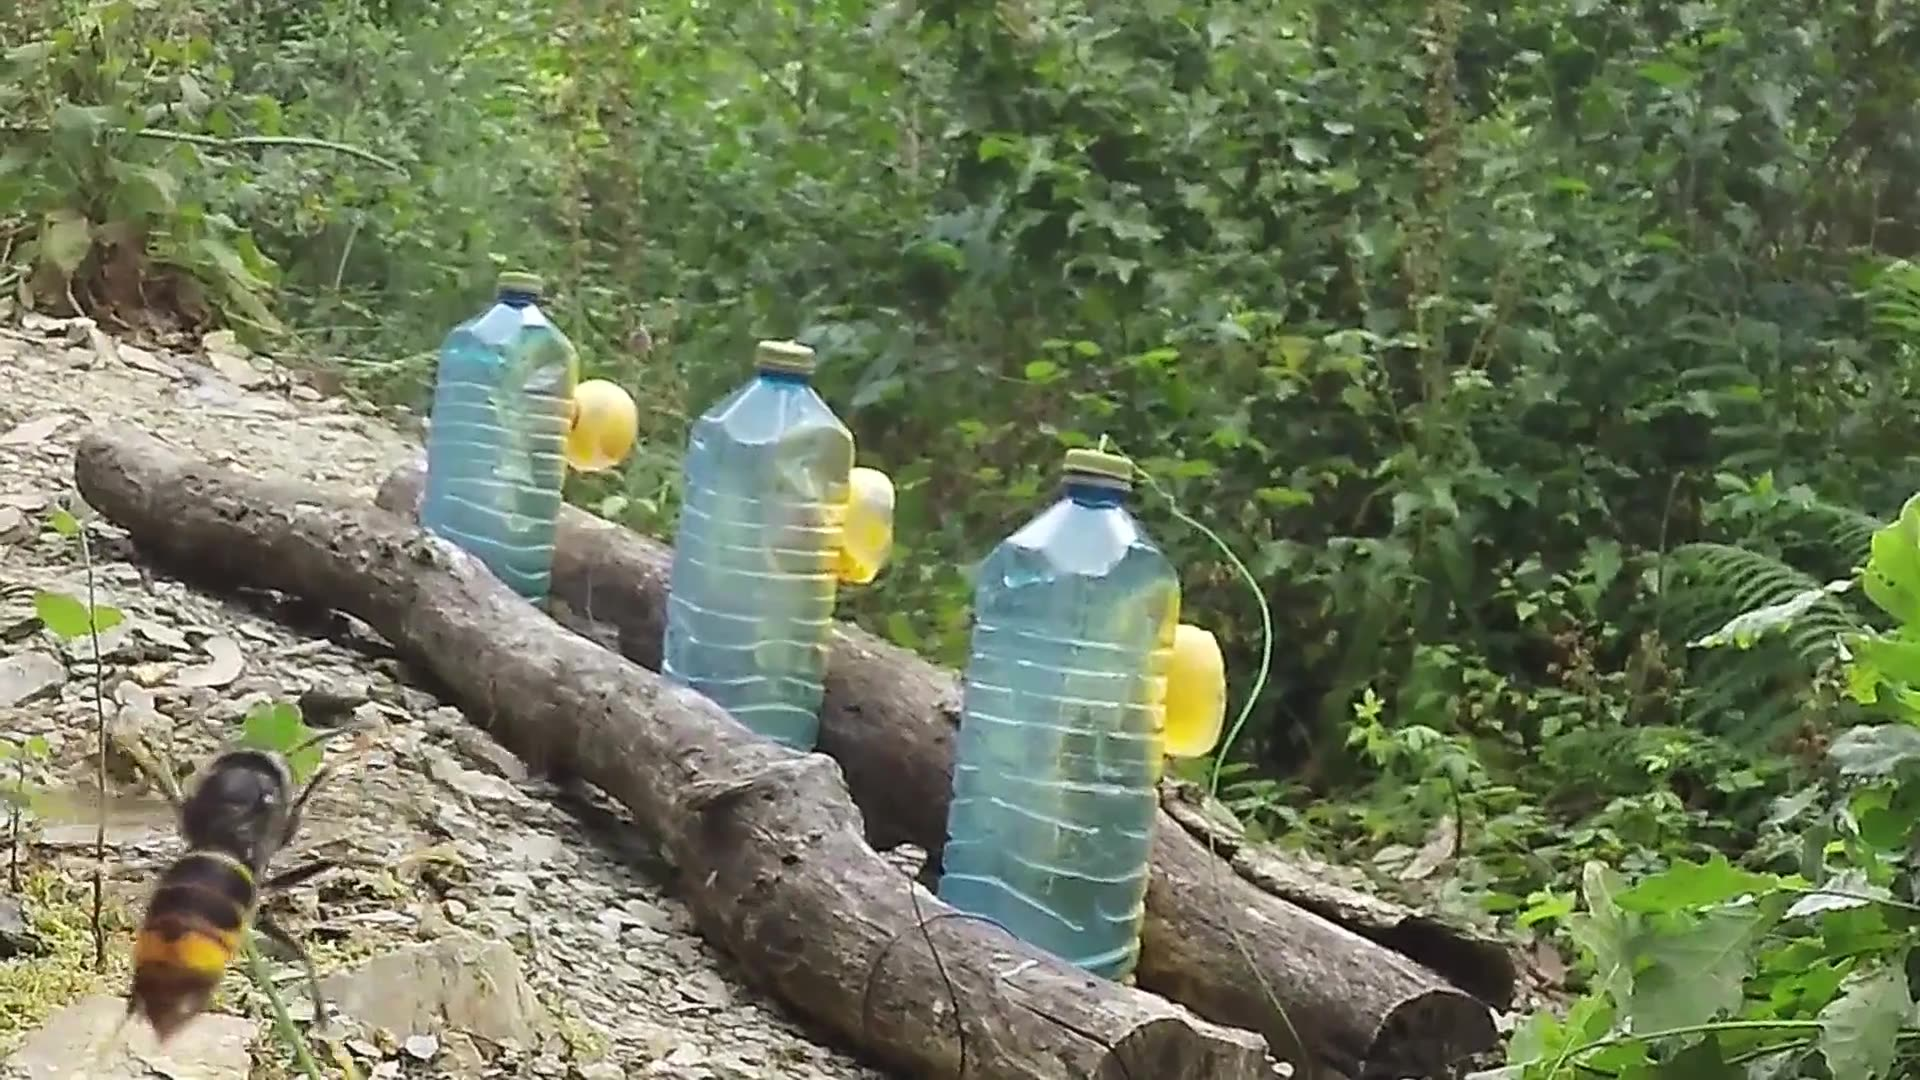hornet: (121, 735, 322, 1048)
